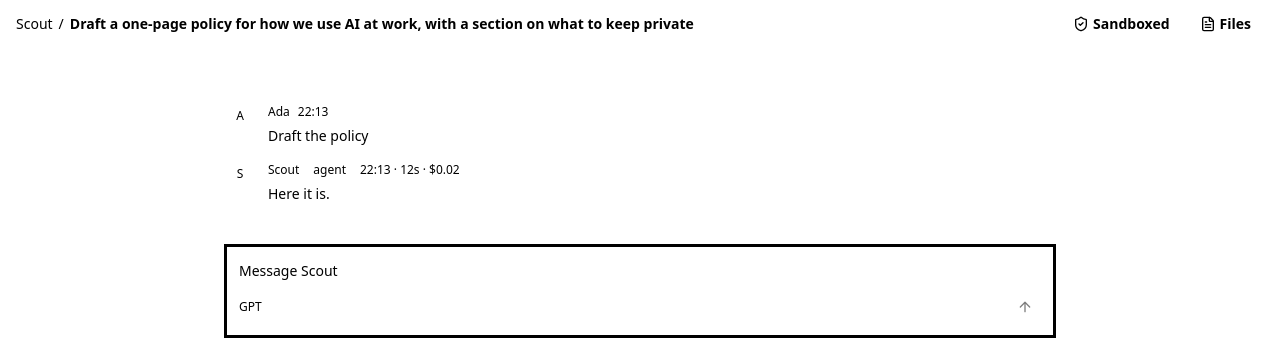
Scenario: a conversation with one agent › writes to the agent by name, and sends what is written
Expected: the button named "Send" is disabled, [1009, 291, 1041, 323]
Type "Shorter, please" into the text box labelled "Message Scout" at (640, 271), box [239, 259, 1041, 283]
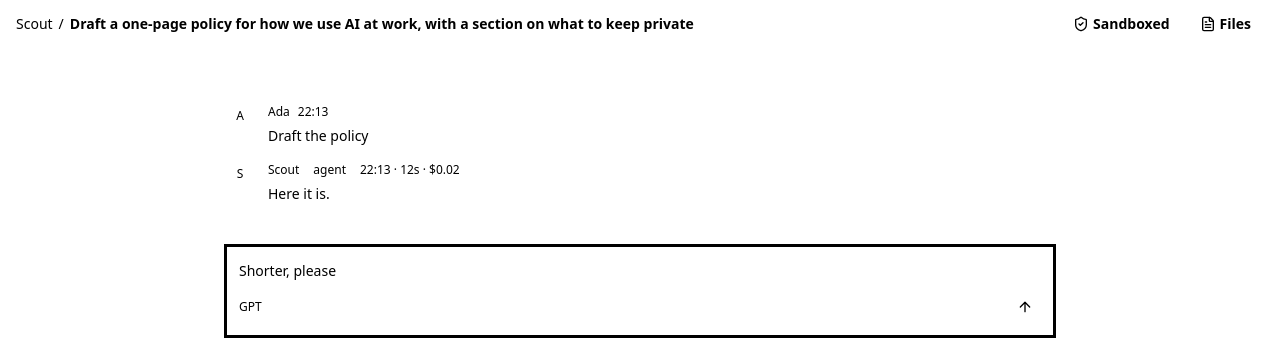
Now the button named "Send" is enabled, box [1009, 291, 1041, 323]
